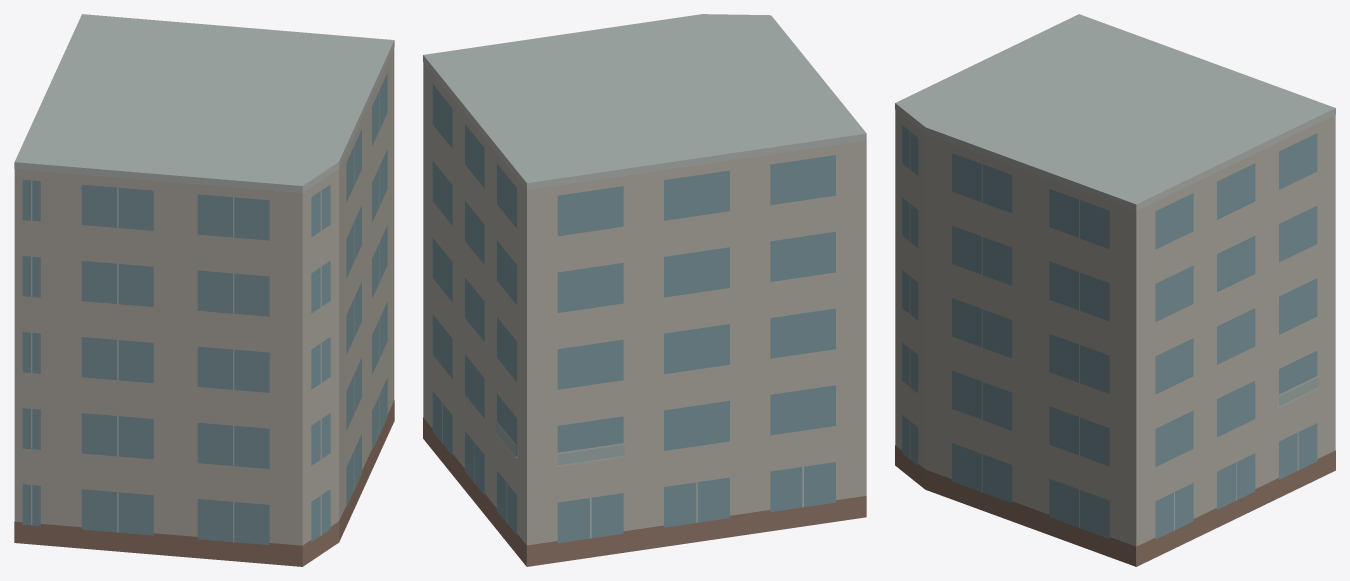
Rendered from survey-upis-32623395.glb.
3 views of the same model, side by side, from view 1: azimuth 30°, elevation 25°; view 2: azimuth 150°, elevation 25°; view 3: azimuth 270°, elevation 25° (orthographic). The views are drawn at different scales.
Visible parts, largest first — view 1: survey-upis-32623395.tmp; view 2: survey-upis-32623395.tmp; view 3: survey-upis-32623395.tmp.
Boxes of the visible parts, x1,y1,x2,y2 form: survey-upis-32623395.tmp: (14, 14, 394, 566); survey-upis-32623395.tmp: (423, 14, 866, 566); survey-upis-32623395.tmp: (895, 14, 1335, 566).
Size of the model in its own units: 14.89 by 13.2 by 14.56.
